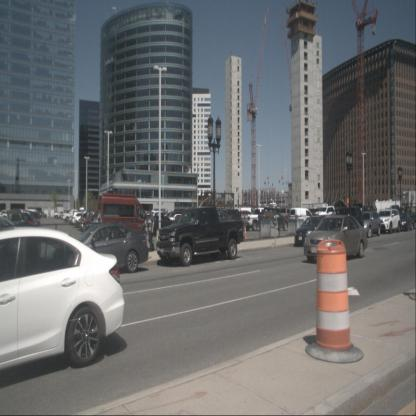cone: (304, 239, 364, 365), (243, 225, 248, 241)
